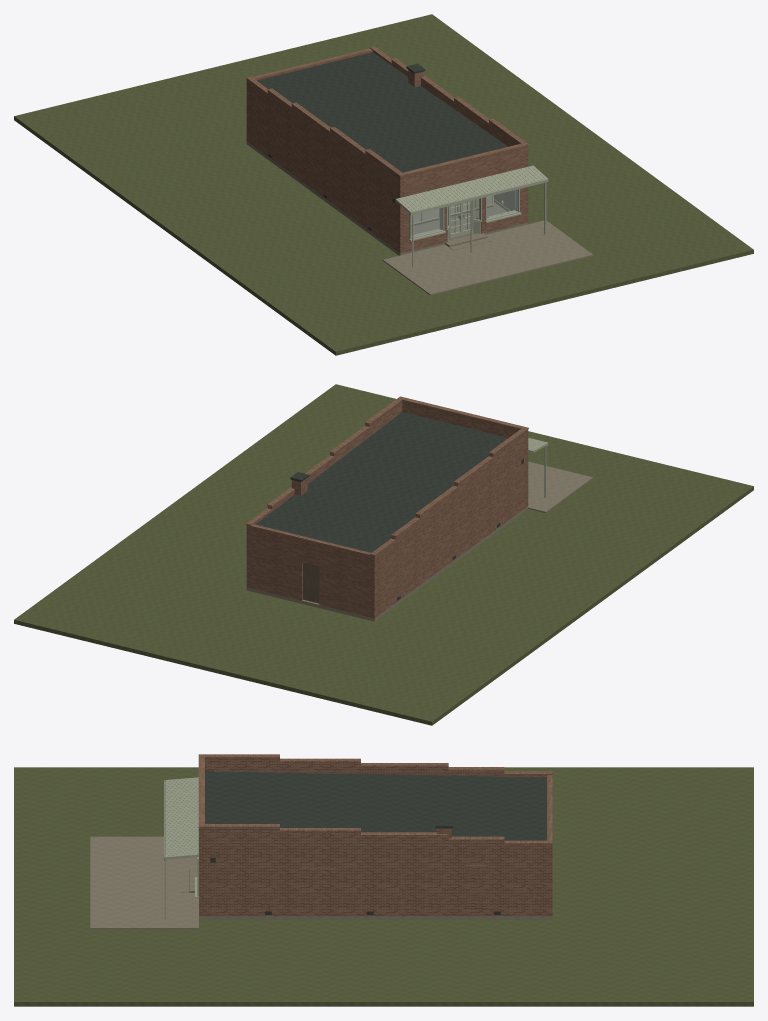
The model's file is sample.glb.
3 renders of one model, top to bottom at view 1: azimuth 30°, elevation 25°; view 2: azimuth 150°, elevation 25°; view 3: azimuth 270°, elevation 25°, orthographic. The views are drawn at different scales.
Parts seen in each view (by area): view 1: Static_M3_grass, Static_M3_brick, Static_M3_roof, Static_M3_floor, Static_M3_trim, Static_M3_glass, Static_M3_aged_paint, Static_M3_aged_floor; view 2: Static_M3_grass, Static_M3_brick, Static_M3_roof, Static_M3_floor, D04_rear_leaf; view 3: Static_M3_grass, Static_M3_brick, Static_M3_roof, Static_M3_floor, Static_M3_trim.
Boxes of the visible parts, <box> form: Static_M3_grass: <box>14,14,753,355</box>; Static_M3_brick: <box>246,46,528,253</box>; Static_M3_roof: <box>257,52,507,231</box>; Static_M3_floor: <box>246,141,593,295</box>; Static_M3_trim: <box>395,165,548,266</box>; Static_M3_glass: <box>411,190,518,237</box>; Static_M3_aged_paint: <box>409,189,518,238</box>; Static_M3_aged_floor: <box>411,202,507,240</box>; Static_M3_grass: <box>14,384,753,725</box>; Static_M3_brick: <box>246,396,528,618</box>; Static_M3_roof: <box>255,412,523,600</box>; Static_M3_floor: <box>246,461,593,621</box>; D04_rear_leaf: <box>303,562,319,603</box>; Static_M3_grass: <box>14,767,753,1006</box>; Static_M3_brick: <box>198,754,552,915</box>; Static_M3_roof: <box>205,771,547,914</box>; Static_M3_floor: <box>90,836,552,929</box>; Static_M3_trim: <box>164,777,198,919</box>.
Size of the model in its own units: 24 by 4.71 by 32.
23 materials, 10 textured.
